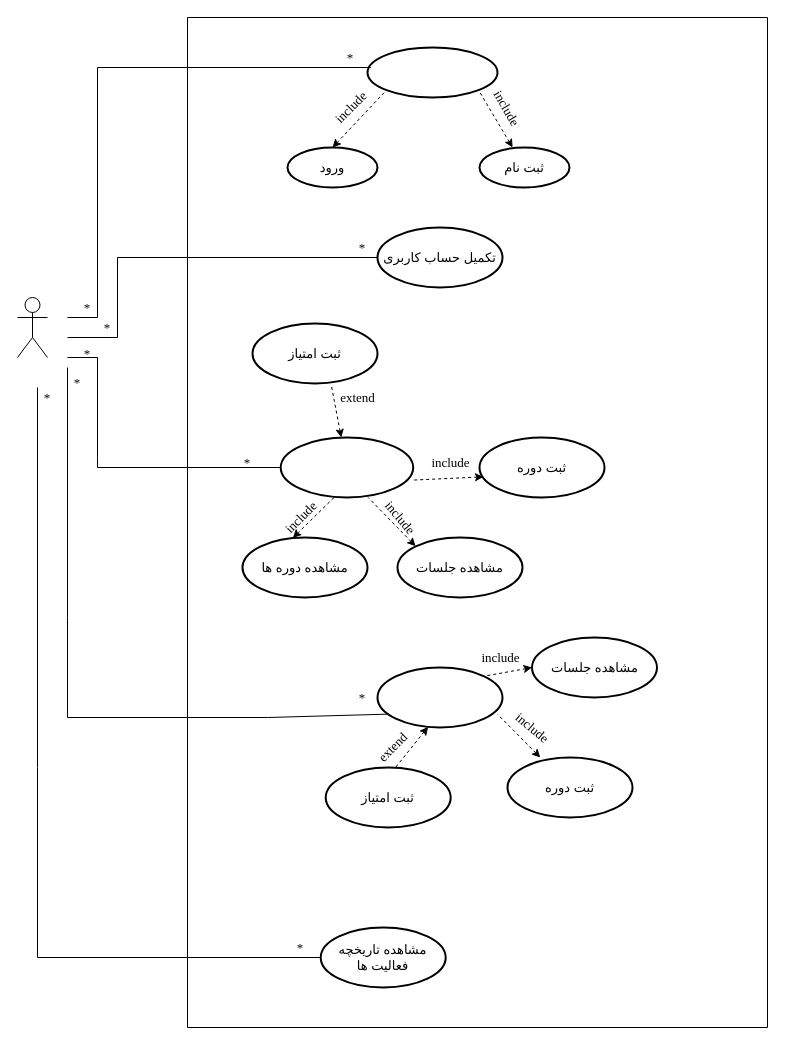
Some shapes in this 785 by 1045 pixel diagram are drawn without their labels. The shapes that lost their labels are listed below. From the top down, each one's centre as x and y in pixels, then its label:
At point (432, 72): "احراز هویت".
At point (32, 327): "کاربر".
At point (346, 467): "مشاهده دسته بندی ها".
At point (439, 697): "مشاهده دوره های پیشنهادی".
